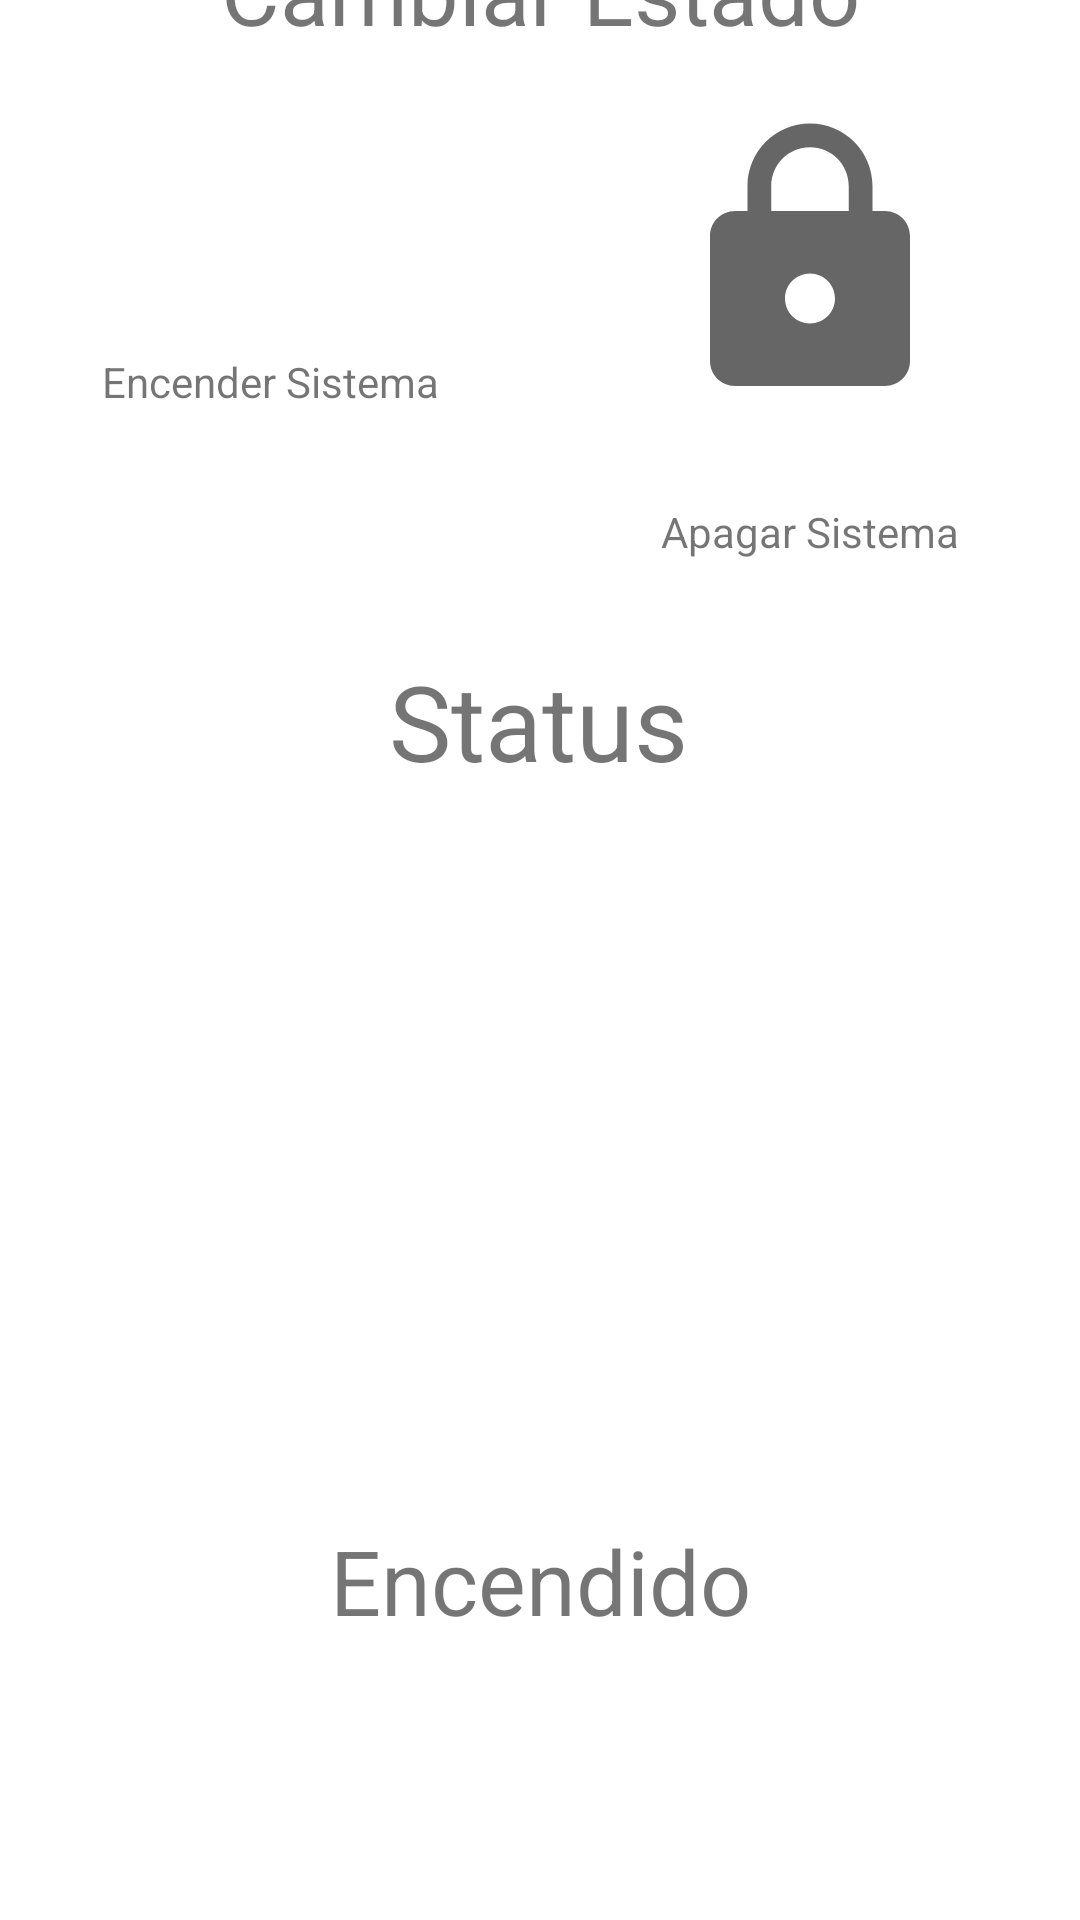

Point at icon controls on the screen. Image size 1080 × 1920, points as (x,y).
lock: (810,254)
